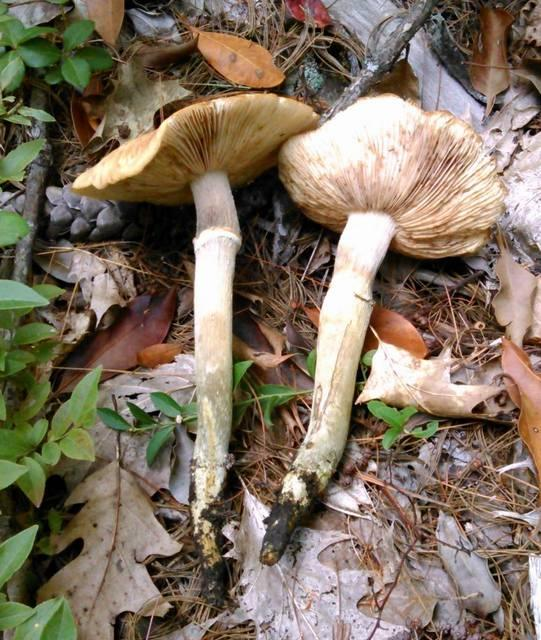Edible Mushroom: (70, 90, 320, 606), (258, 91, 507, 567)
